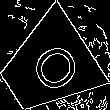O_SW: (16, 35, 79, 99)
